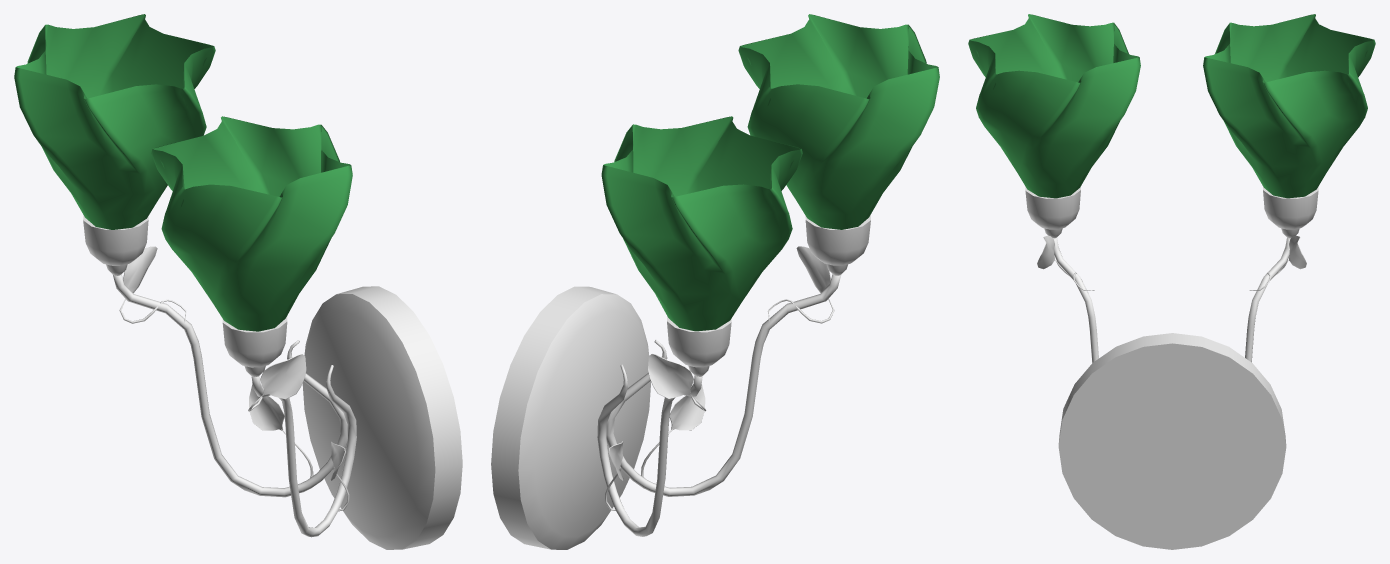
The model's file is SM_Prop_light_desklight002.FBX.
The picture shows the model from 3 angles, left to right: view 1: azimuth 30°, elevation 25°; view 2: azimuth 150°, elevation 25°; view 3: azimuth 270°, elevation 25°; orthographic projection. The views are drawn at different scales.
Visible parts, largest first — view 1: SM_Prop_light_desklight002; view 2: SM_Prop_light_desklight002; view 3: SM_Prop_light_desklight002.
Part boxes in pixels (x1,y1,x2,y2): SM_Prop_light_desklight002: [14, 14, 462, 549]; SM_Prop_light_desklight002: [491, 14, 939, 549]; SM_Prop_light_desklight002: [968, 14, 1375, 549].
Bounding box in the file's own units: 29.09 × 39.41 × 44.13.
